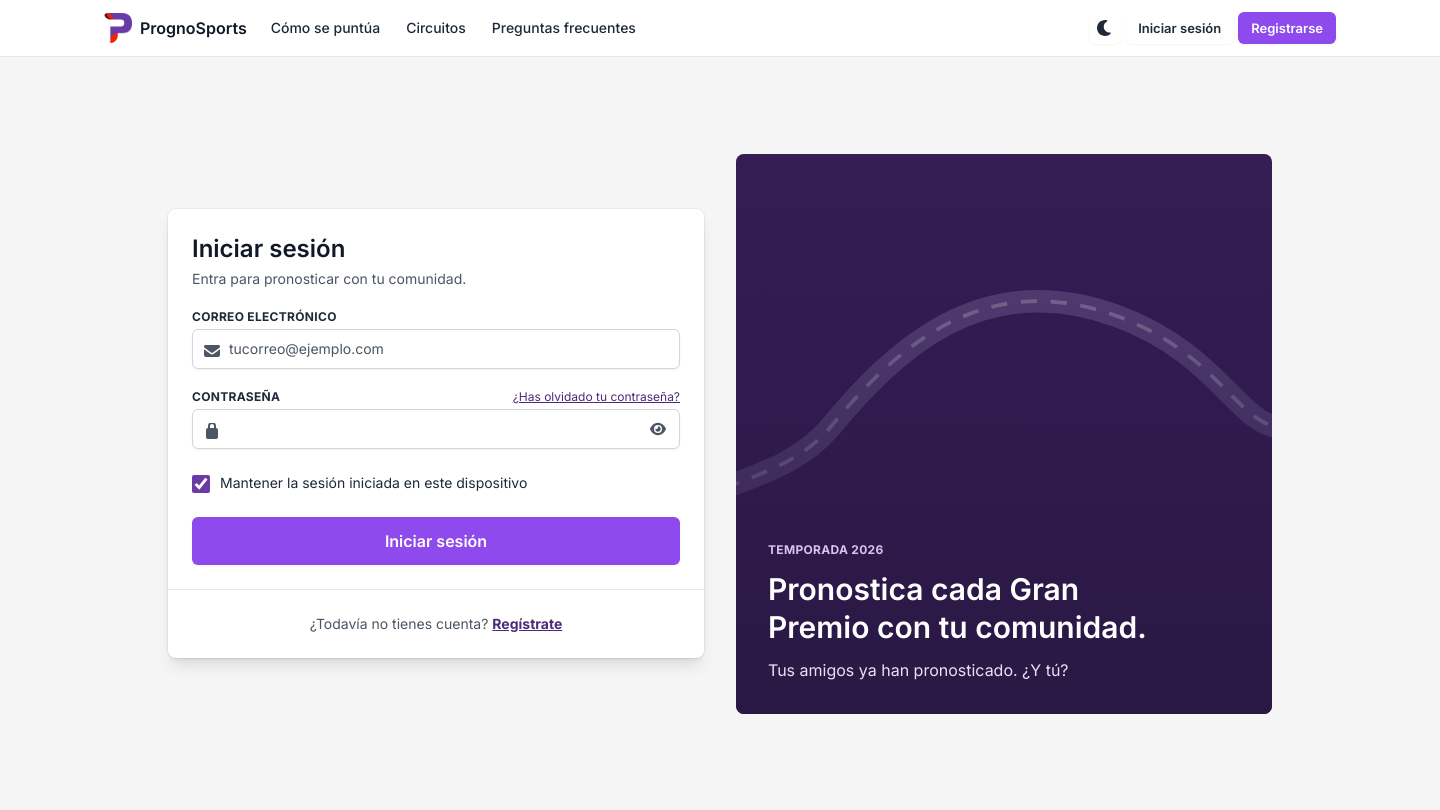
Scenario: login page › shows field errors and focuses the first invalid field
Click the button "Iniciar sesión" at (436, 541), box [192, 517, 680, 565]
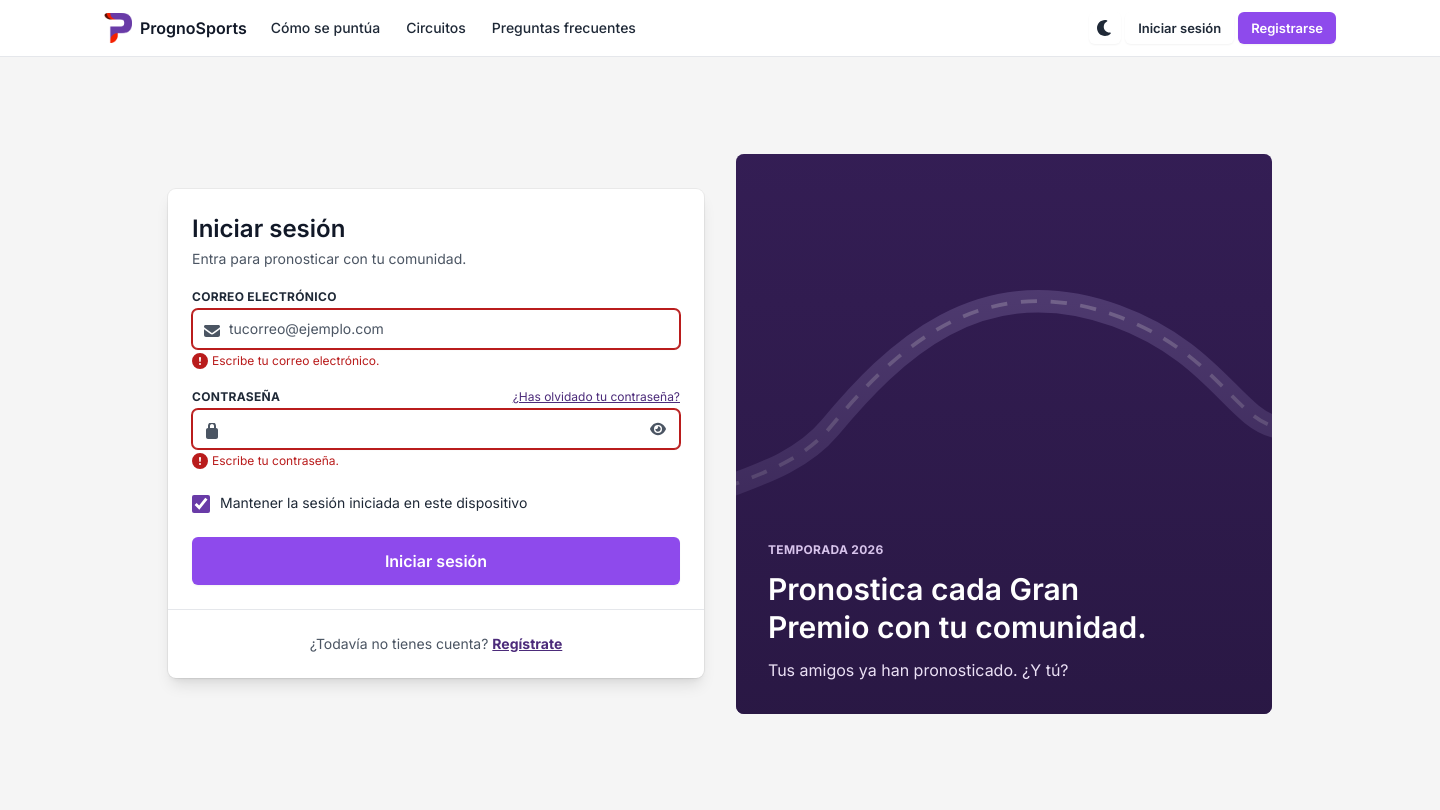
Now the text "Escribe tu correo electrónico." is shown, box [212, 353, 379, 369]
Now the text "Escribe tu contraseña." is shown, box [212, 453, 339, 469]
